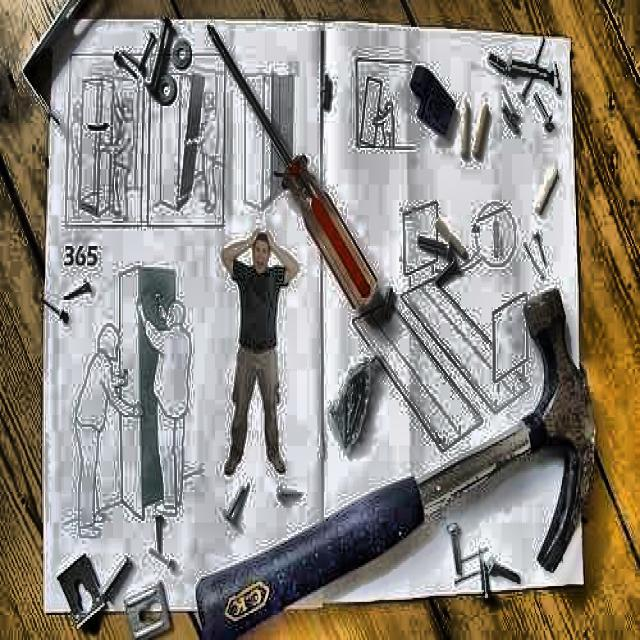hammer: (195, 288, 599, 640)
